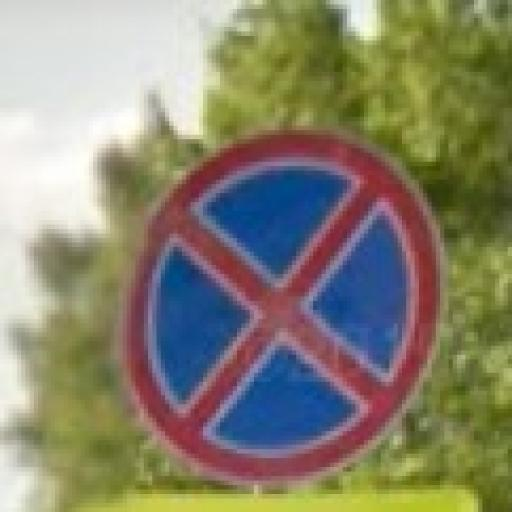traffic_sign: (115, 122, 450, 495)
